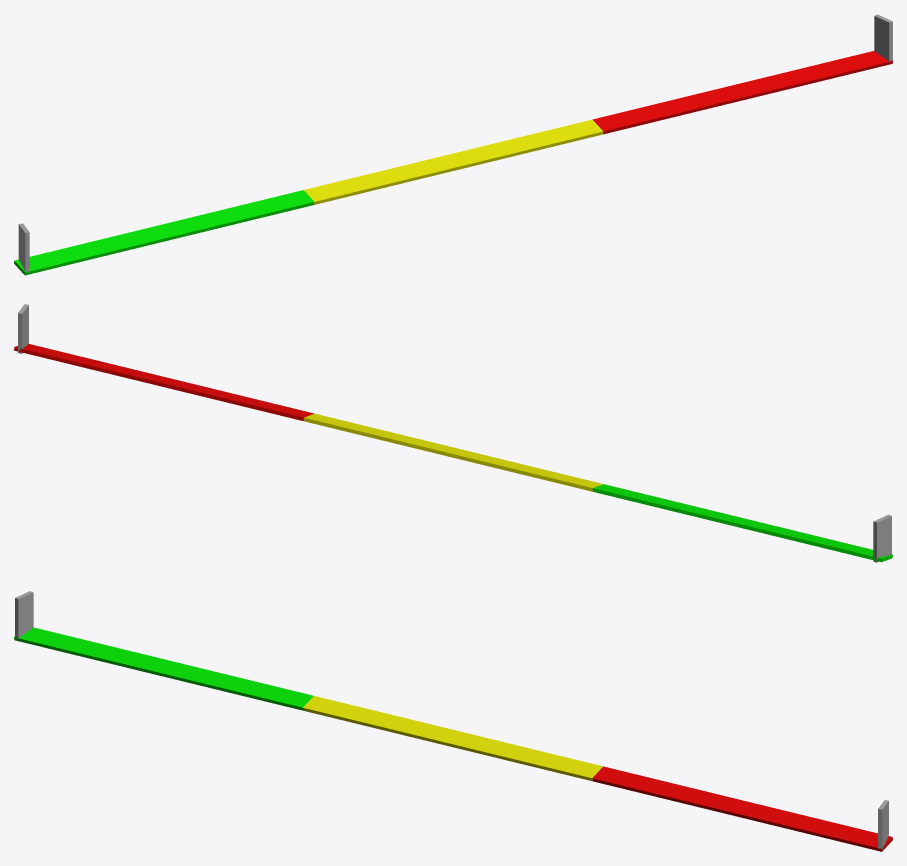
Rendered from Atlas Map.fbx.
The picture shows the model from 3 angles, top to bottom: view 1: azimuth 30°, elevation 25°; view 2: azimuth 150°, elevation 25°; view 3: azimuth 330°, elevation 25°; orthographic projection.
Visible parts, largest first — view 1: base_3_pasted__Atlas_Level_pasted__base_pasted__walls_pasted; view 2: base_3_pasted__Atlas_Level_pasted__base_pasted__walls_pasted; view 3: base_3_pasted__Atlas_Level_pasted__base_pasted__walls_pasted.
Boxes of the visible parts, <box> form: base_3_pasted__Atlas_Level_pasted__base_pasted__walls_pasted: <box>14,14,892,275</box>; base_3_pasted__Atlas_Level_pasted__base_pasted__walls_pasted: <box>14,304,892,562</box>; base_3_pasted__Atlas_Level_pasted__base_pasted__walls_pasted: <box>14,591,892,851</box>.
Bounding box in the file's own units: 44.9 × 2.09 × 1.02.
